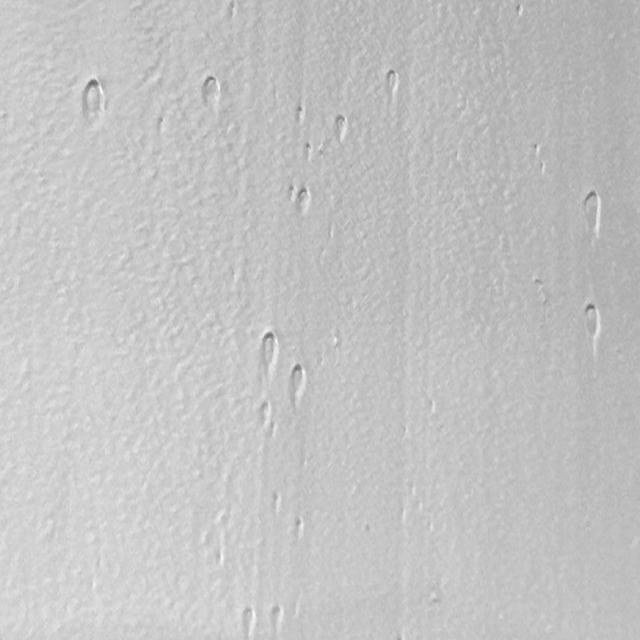pin holes: (80, 74, 110, 125), (578, 188, 605, 238), (578, 300, 604, 349), (254, 331, 280, 373), (198, 73, 223, 115), (266, 603, 288, 634), (238, 605, 259, 636), (293, 184, 313, 216), (287, 367, 307, 398), (330, 115, 350, 145), (382, 68, 402, 96), (254, 400, 272, 428), (223, 0, 240, 22), (291, 516, 306, 540), (511, 0, 528, 21), (292, 104, 307, 125), (270, 491, 283, 515), (302, 140, 316, 160)
